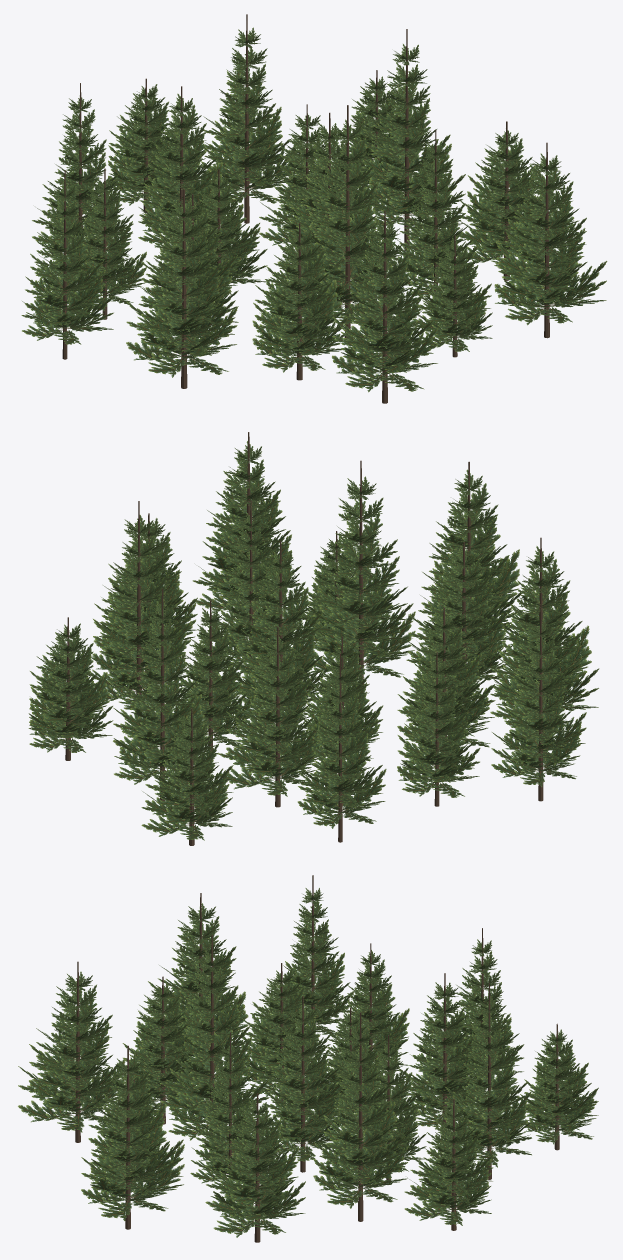
File: forest-2.glb
3 views of the same model, one above another, from view 1: azimuth 30°, elevation 25°; view 2: azimuth 150°, elevation 25°; view 3: azimuth 270°, elevation 25° (orthographic). The views are drawn at different scales.
Parts seen in each view (by area): view 1: forest-2; view 2: forest-2; view 3: forest-2.
Part boxes in pixels (x1,y1,x2,y2): forest-2: (21, 14, 607, 403); forest-2: (28, 432, 599, 845); forest-2: (18, 875, 598, 1242).
Size of the model in its own units: 47.27 by 20.95 by 50.79.
2 materials, 1 textured.
